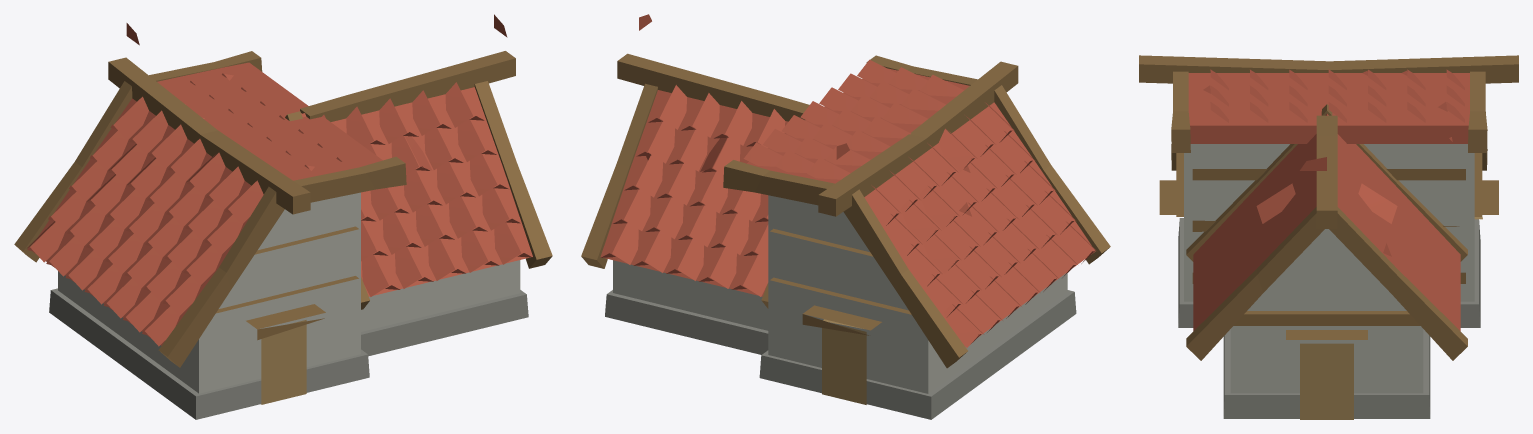
File: house_d_lod2.glb
The picture shows the model from 3 angles, left to right: view 1: azimuth 30°, elevation 25°; view 2: azimuth 150°, elevation 25°; view 3: azimuth 270°, elevation 25°; orthographic projection. The views are drawn at different scales.
Parts seen in each view (by area): view 1: Houses_SecondAge_2_Level2; view 2: Houses_SecondAge_2_Level2; view 3: Houses_SecondAge_2_Level2.
Part boxes in pixels (<box>): Houses_SecondAge_2_Level2: <box>14,14,552,419</box>; Houses_SecondAge_2_Level2: <box>581,14,1110,419</box>; Houses_SecondAge_2_Level2: <box>1139,55,1518,419</box>.
Bounding box in the file's own units: 13.1 × 7.79 × 9.92.
